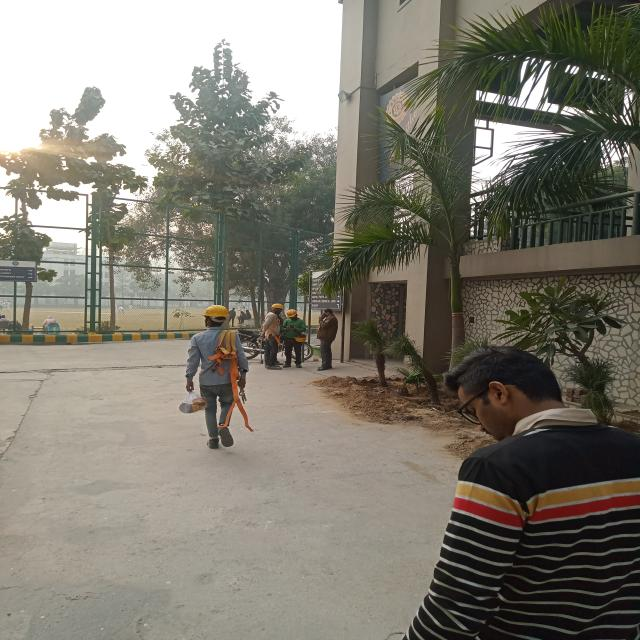no jacket: (185, 303, 251, 450), (260, 302, 285, 369), (284, 308, 304, 369)
unsafe: (425, 347, 640, 640), (314, 308, 339, 372)
